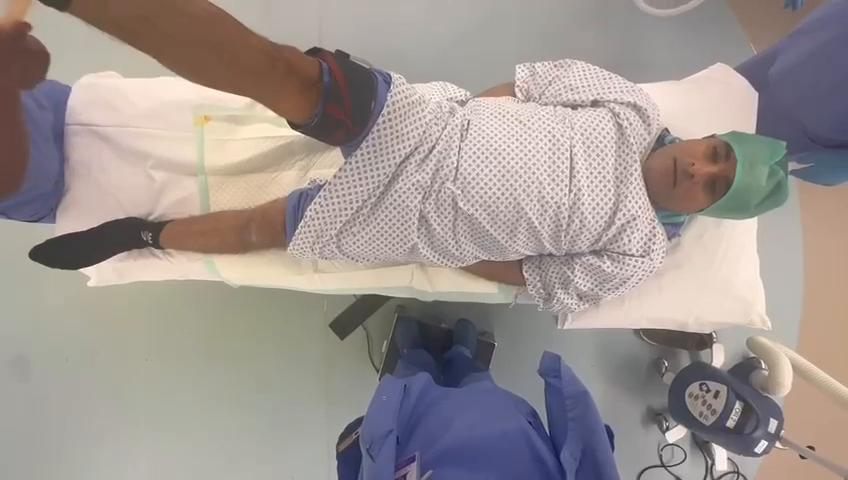bed: (56, 53, 770, 330)
patient: (30, 0, 788, 311)
prepstick: (0, 0, 31, 21)
tourniquet: (292, 46, 371, 145)
